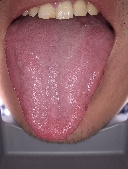tongue: (3, 23, 115, 141)
